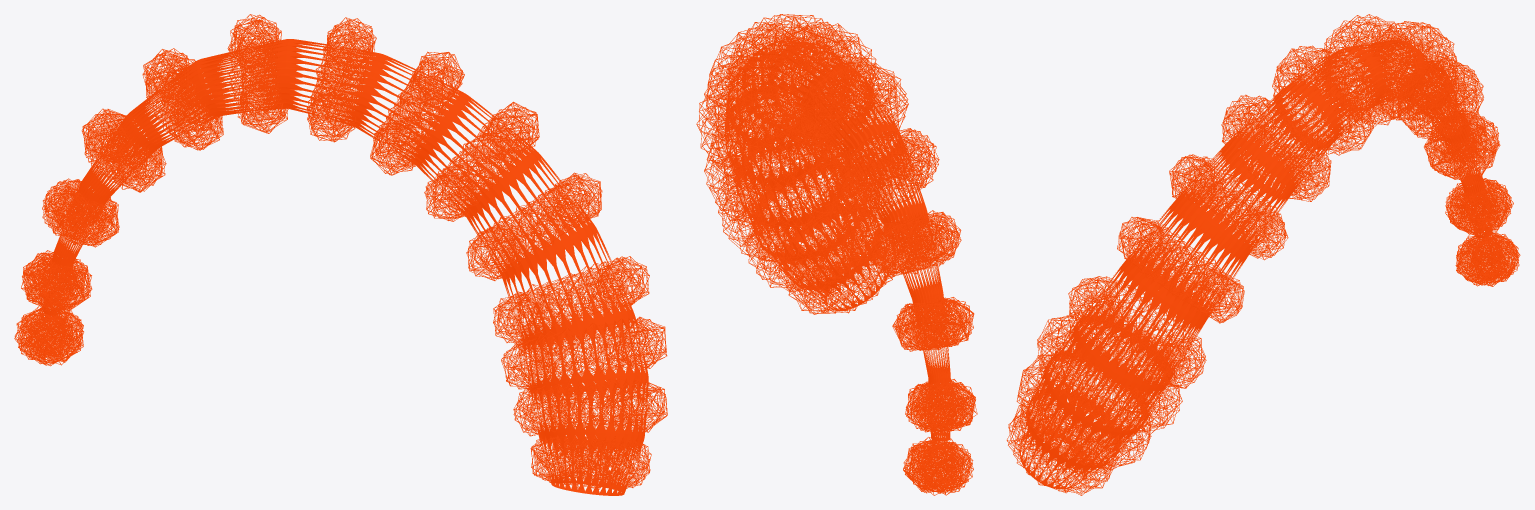
The model's file is WRM.glb.
The picture shows the model from 3 angles, left to right: view 1: azimuth 30°, elevation 25°; view 2: azimuth 150°, elevation 25°; view 3: azimuth 270°, elevation 25°; orthographic projection. The views are drawn at different scales.
Visible parts, largest first — view 1: Cylinder.001; view 2: Cylinder.001; view 3: Cylinder.001.
Boxes of the visible parts, box(x1,y1,x2,y2) form: Cylinder.001: box(14, 14, 667, 495); Cylinder.001: box(696, 14, 977, 495); Cylinder.001: box(1006, 14, 1520, 495).
Bounding box in the file's own units: 1.12 × 0.9946 × 1.2.
